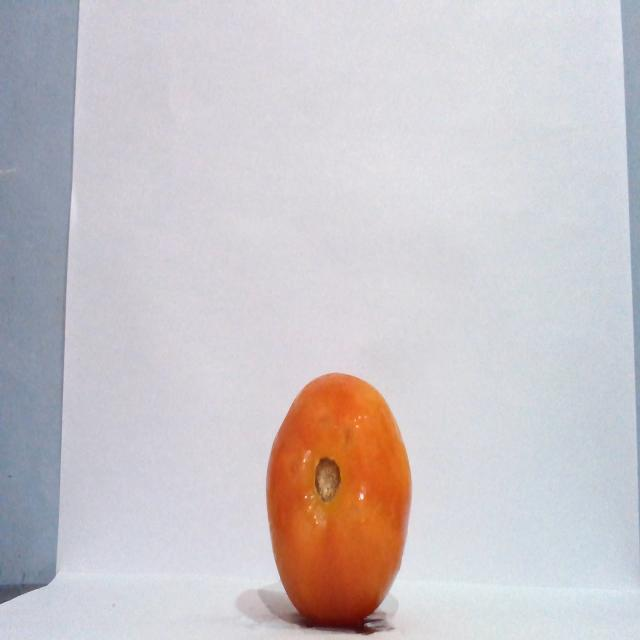Red: (264, 370, 412, 627)
